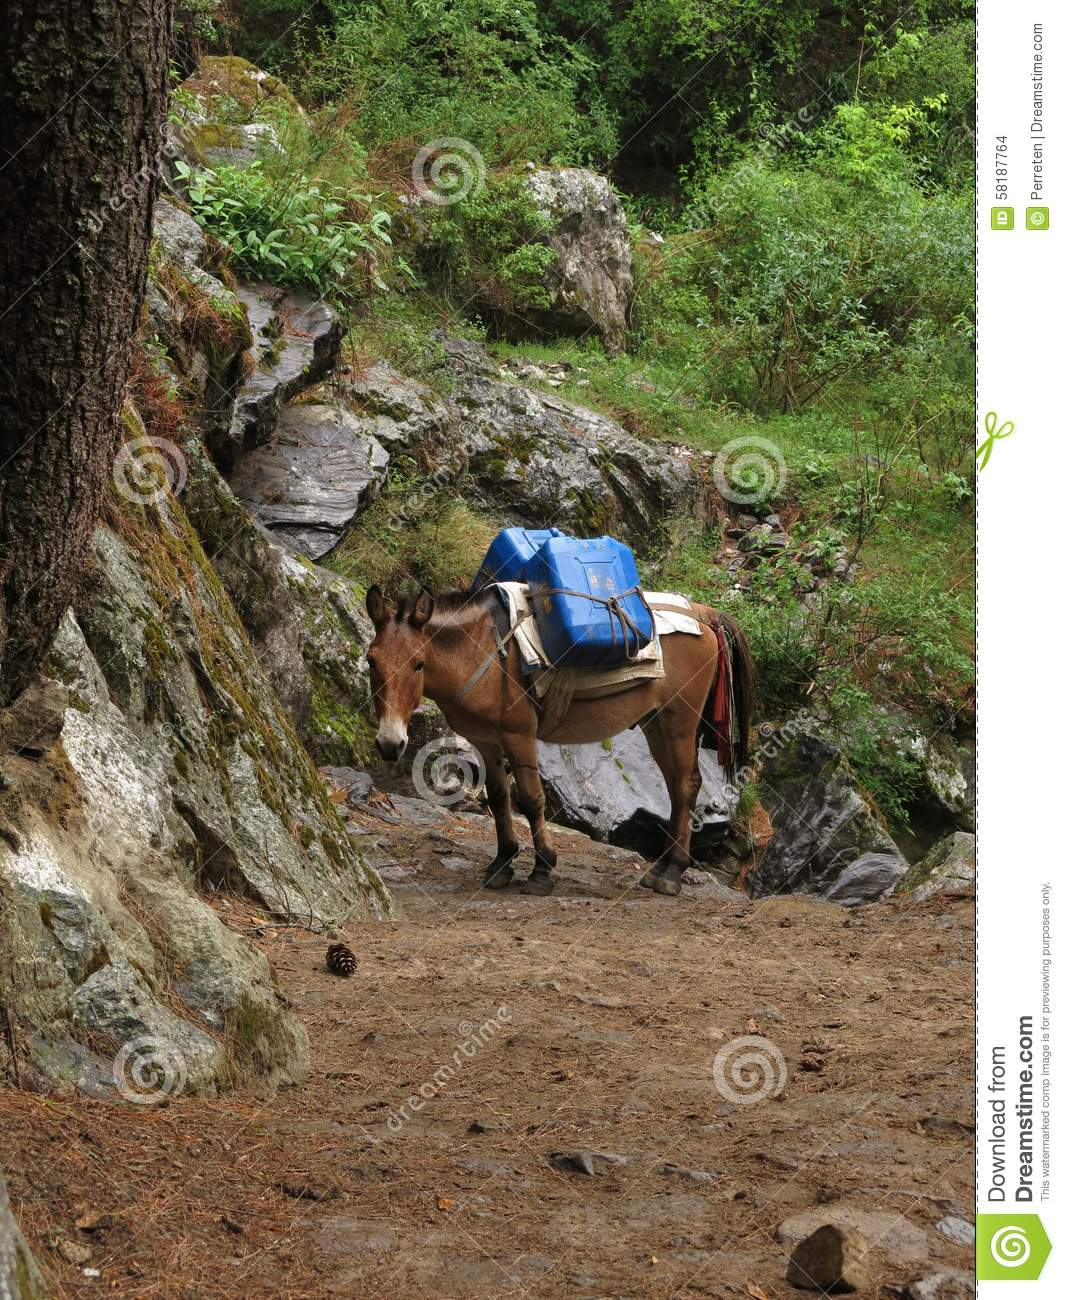equine: (341, 567, 777, 909)
